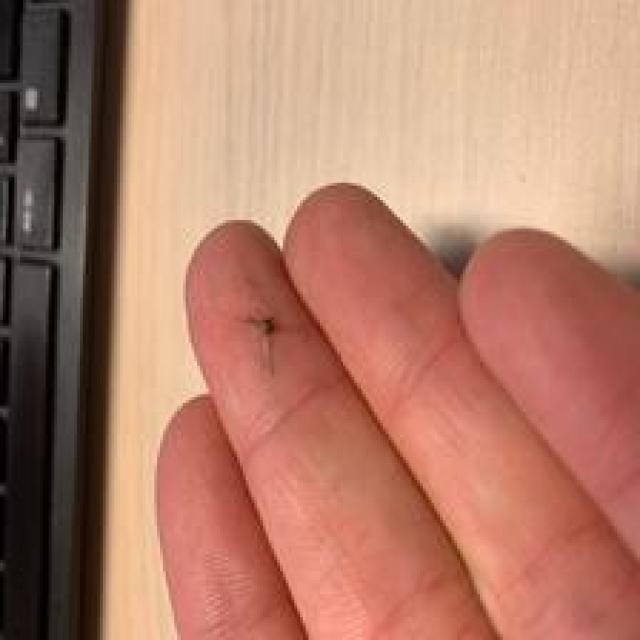Culex: (0, 0, 106, 640)
